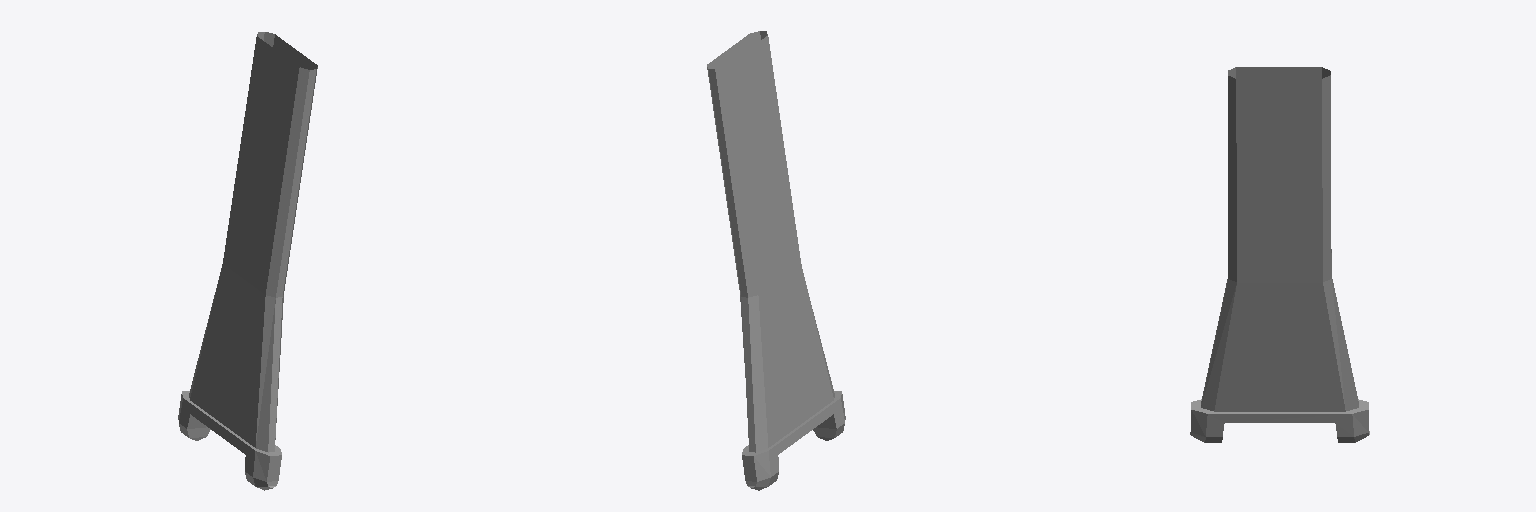
The model's file is BF_Giga_Halo_Link_Lower.obj.
The picture shows the model from 3 angles: view 1: azimuth 30°, elevation 25°; view 2: azimuth 150°, elevation 25°; view 3: azimuth 270°, elevation 25°; orthographic projection.
Visible parts, largest first — view 1: m_BF_Wheel_Large_Side_244_Link_Lower.003; view 2: m_BF_Wheel_Large_Side_244_Link_Lower.003; view 3: m_BF_Wheel_Large_Side_244_Link_Lower.003.
Boxes of the visible parts, <box> form: m_BF_Wheel_Large_Side_244_Link_Lower.003: <box>178,32,317,490</box>; m_BF_Wheel_Large_Side_244_Link_Lower.003: <box>707,31,845,490</box>; m_BF_Wheel_Large_Side_244_Link_Lower.003: <box>1190,67,1369,442</box>.
Size of the model in its own units: 0.9435 by 4.48 by 1.84.